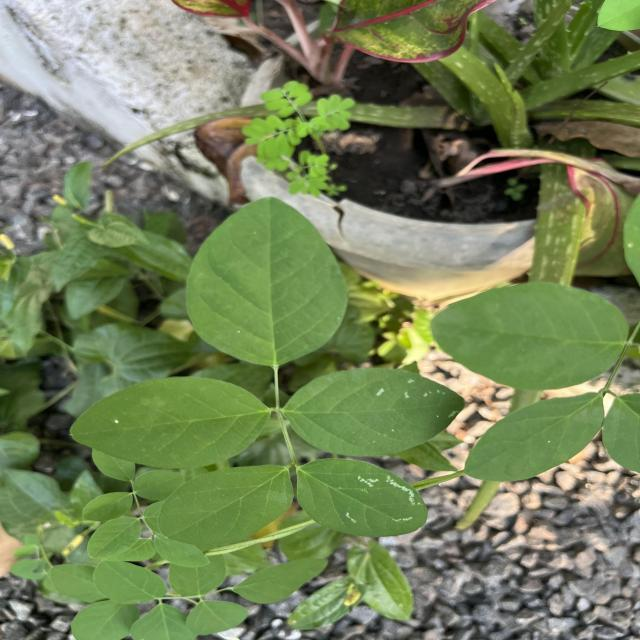Clitoria ternatea: (182, 194, 352, 368), (68, 376, 272, 471), (282, 367, 467, 458), (158, 462, 295, 546), (295, 458, 429, 538)
